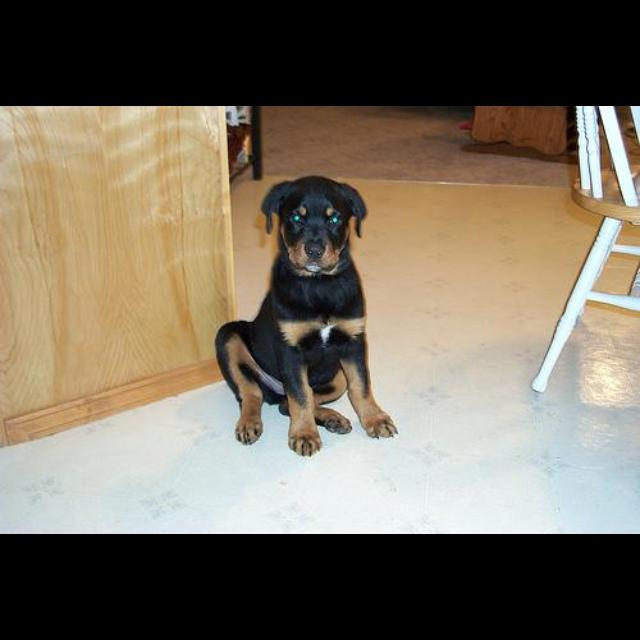rottweiler: (215, 175, 399, 459)
